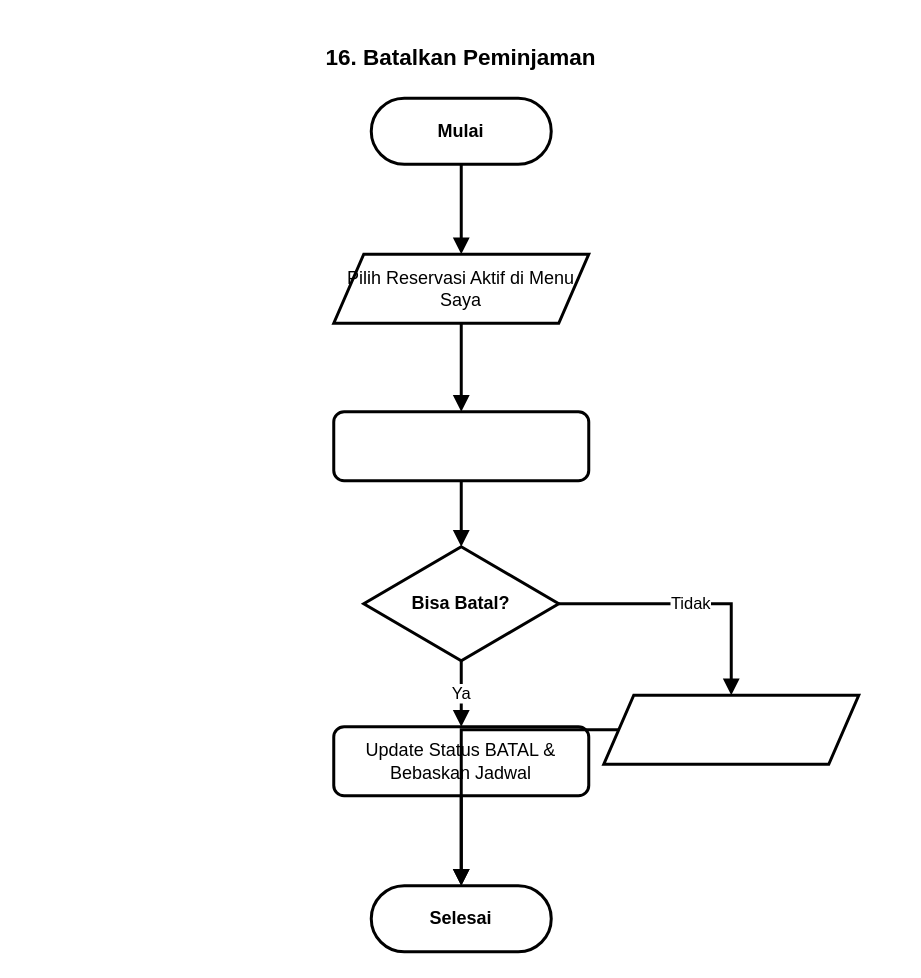
The diagram is 921 pixels wide and 978 high, and some of its shapes have lost their labels. Here are the shapes that lost their labels. From the top down, the box of each, then its label:
(332, 410, 590, 482): Validasi Batas Waktu Pembatalan
(602, 693, 860, 765): Tampilkan Peringatan Melebihi Batas
